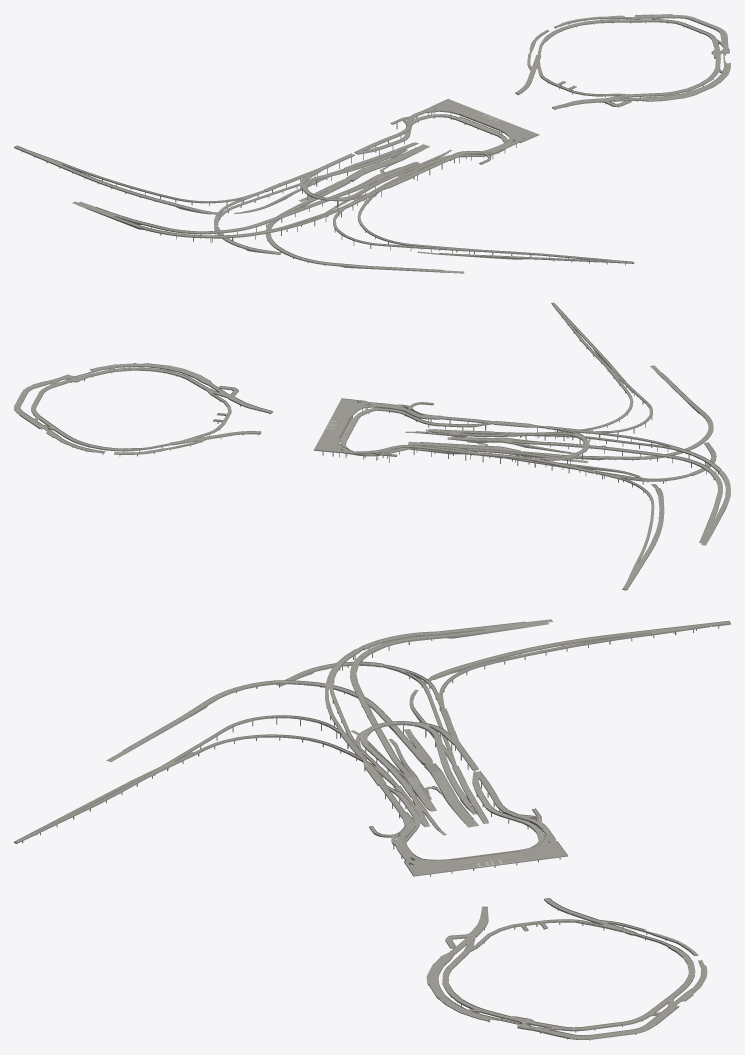
File: roadways.glb
The picture shows the model from 3 angles, top to bottom: view 1: azimuth 30°, elevation 25°; view 2: azimuth 150°, elevation 25°; view 3: azimuth 270°, elevation 25°; orthographic projection. The views are drawn at different scales.
Visible parts, largest first — view 1: L0_domestic_departures, L0_interchange_1_2, L0_itb_departures, L0_interchange_2_2, L2_itb_departures, L1_domestic_departures, L1_interchange_1_2, L1_itb_departures, L0_interchange_2_3, L2_domestic_departures, L2_interchange_2_2, L1_interchange_2_2 (+2 smaller); view 2: L0_domestic_departures, L0_itb_departures, L0_interchange_2_2, L0_interchange_1_2, L2_itb_departures, L2_interchange_1_2, L1_domestic_departures, L2_domestic_departures, L2_interchange_2_2, L1_itb_departures, L1_interchange_1_2, L1_interchange_2_2 (+2 smaller); view 3: L0_domestic_departures, L0_interchange_1_2, L0_itb_departures, L0_interchange_2_2, L2_interchange_1_2, L2_itb_departures, L2_interchange_2_2, L1_domestic_departures, L2_domestic_departures, L1_itb_departures, L1_interchange_2_2, L0_interchange_2_3 (+3 smaller).
Boxes of the visible parts, x1=… form: L0_domestic_departures: x1=515, y1=14, x2=730, y2=109; L0_interchange_1_2: x1=14, y1=145, x2=357, y2=252; L0_itb_departures: x1=320, y1=98, x2=539, y2=180; L0_interchange_2_2: x1=217, y1=140, x2=419, y2=226; L2_itb_departures: x1=327, y1=100, x2=538, y2=177; L1_domestic_departures: x1=516, y1=15, x2=730, y2=109; L1_interchange_1_2: x1=15, y1=146, x2=355, y2=251; L1_itb_departures: x1=326, y1=100, x2=538, y2=174; L0_interchange_2_3: x1=333, y1=177, x2=491, y2=273; L2_domestic_departures: x1=519, y1=15, x2=729, y2=108; L2_interchange_2_2: x1=217, y1=141, x2=418, y2=226; L1_interchange_2_2: x1=217, y1=141, x2=418, y2=223; L0_domestic_departures: x1=14, y1=363, x2=272, y2=456; L0_itb_departures: x1=314, y1=398, x2=526, y2=465; L0_interchange_2_2: x1=426, y1=421, x2=689, y2=482; L0_interchange_1_2: x1=541, y1=432, x2=730, y2=590; L2_itb_departures: x1=316, y1=399, x2=524, y2=459; L2_interchange_1_2: x1=541, y1=431, x2=730, y2=588; L1_domestic_departures: x1=14, y1=363, x2=273, y2=453; L2_domestic_departures: x1=14, y1=363, x2=272, y2=454; L2_interchange_2_2: x1=426, y1=423, x2=685, y2=479; L1_itb_departures: x1=315, y1=401, x2=526, y2=459; L1_interchange_1_2: x1=542, y1=432, x2=730, y2=589; L1_interchange_2_2: x1=439, y1=421, x2=680, y2=479; L0_domestic_departures: x1=426, y1=898, x2=707, y2=1040; L0_interchange_1_2: x1=295, y1=619, x2=730, y2=758; L0_itb_departures: x1=369, y1=744, x2=567, y2=876; L0_interchange_2_2: x1=328, y1=665, x2=489, y2=807; L2_interchange_1_2: x1=295, y1=620, x2=730, y2=757; L2_itb_departures: x1=381, y1=745, x2=566, y2=875; L2_interchange_2_2: x1=329, y1=667, x2=489, y2=805; L1_domestic_departures: x1=427, y1=901, x2=706, y2=1039; L2_domestic_departures: x1=427, y1=900, x2=707, y2=1039; L1_itb_departures: x1=369, y1=745, x2=567, y2=876; L1_interchange_2_2: x1=331, y1=666, x2=488, y2=806; L0_interchange_2_3: x1=106, y1=715, x2=398, y2=787.
Size of the model in its own units: 1327 by 17.09 by 950.
Materials: 11 (5 with a texture image).
